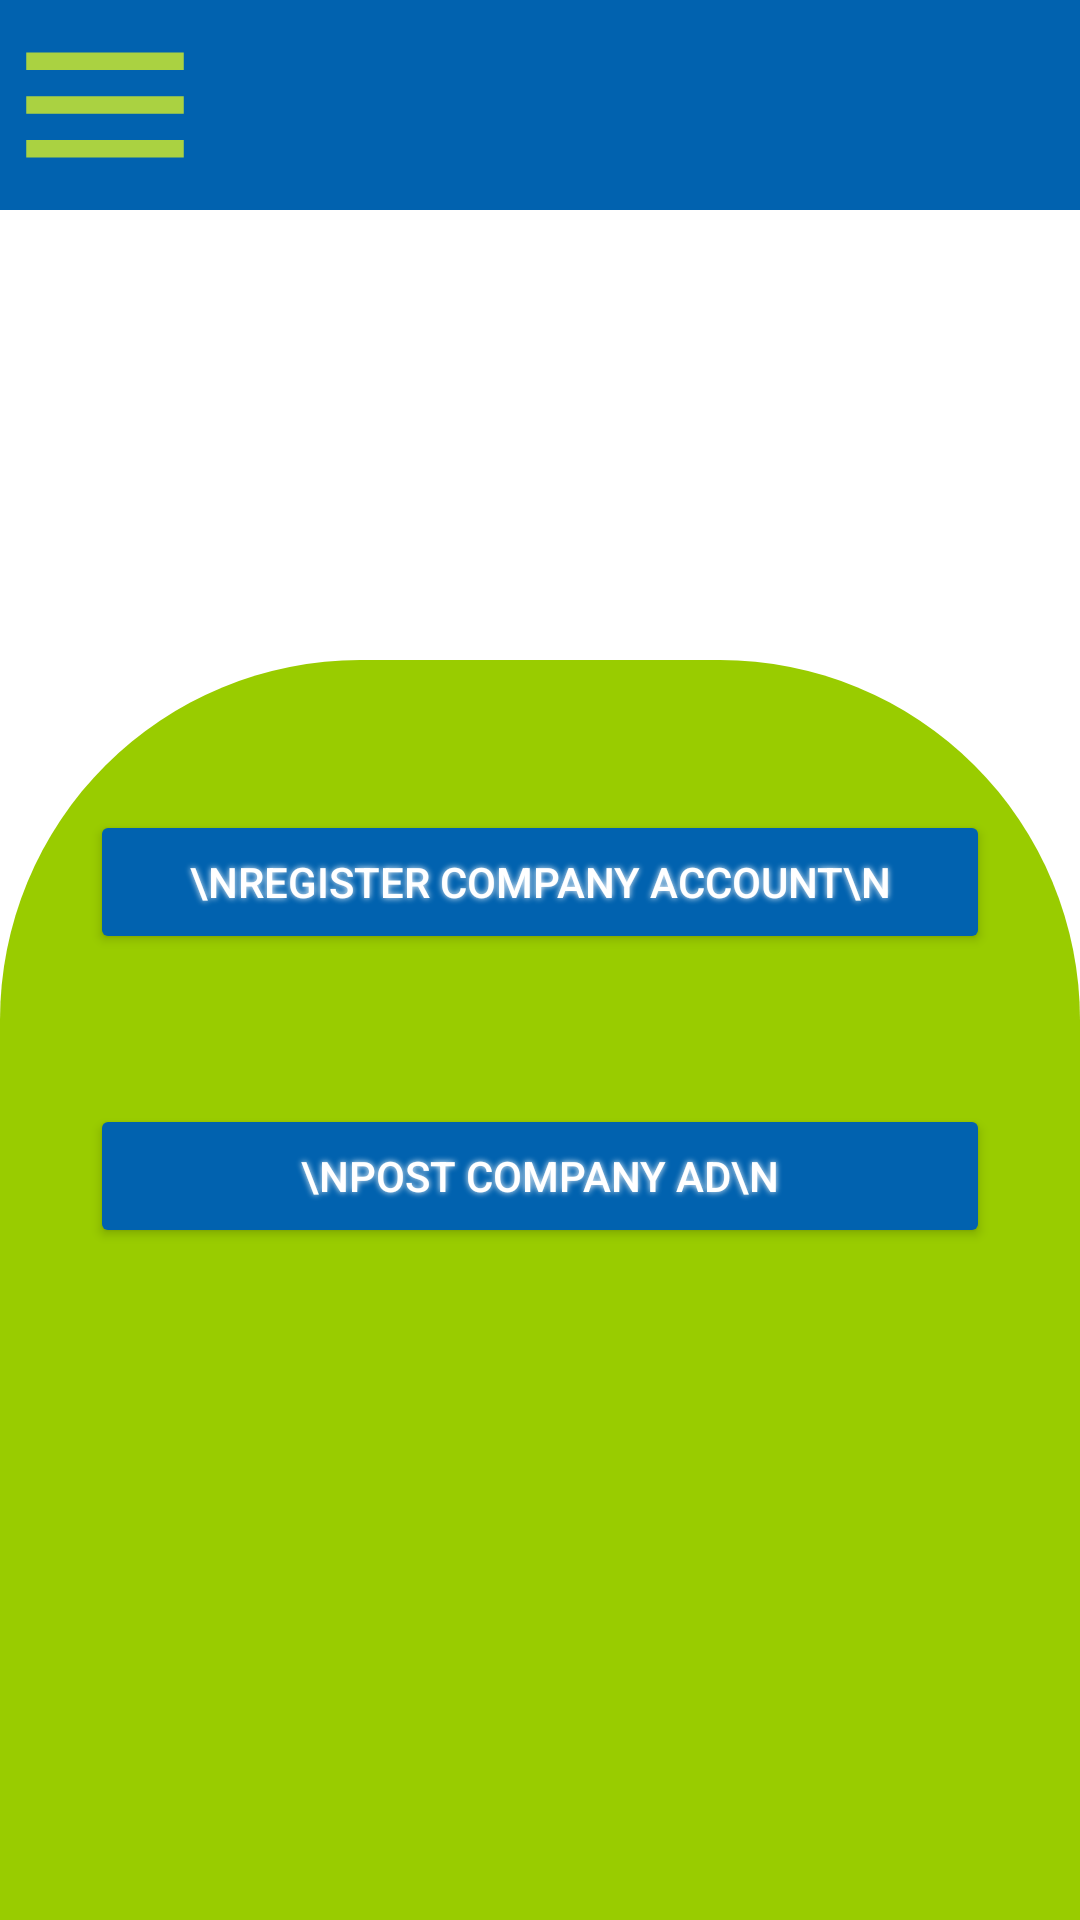

Icons on this 1080px×1920px Android screen, each with its box as Rect(x1, y1, x2, y2):
admin menu: Rect(26, 52, 184, 158)
